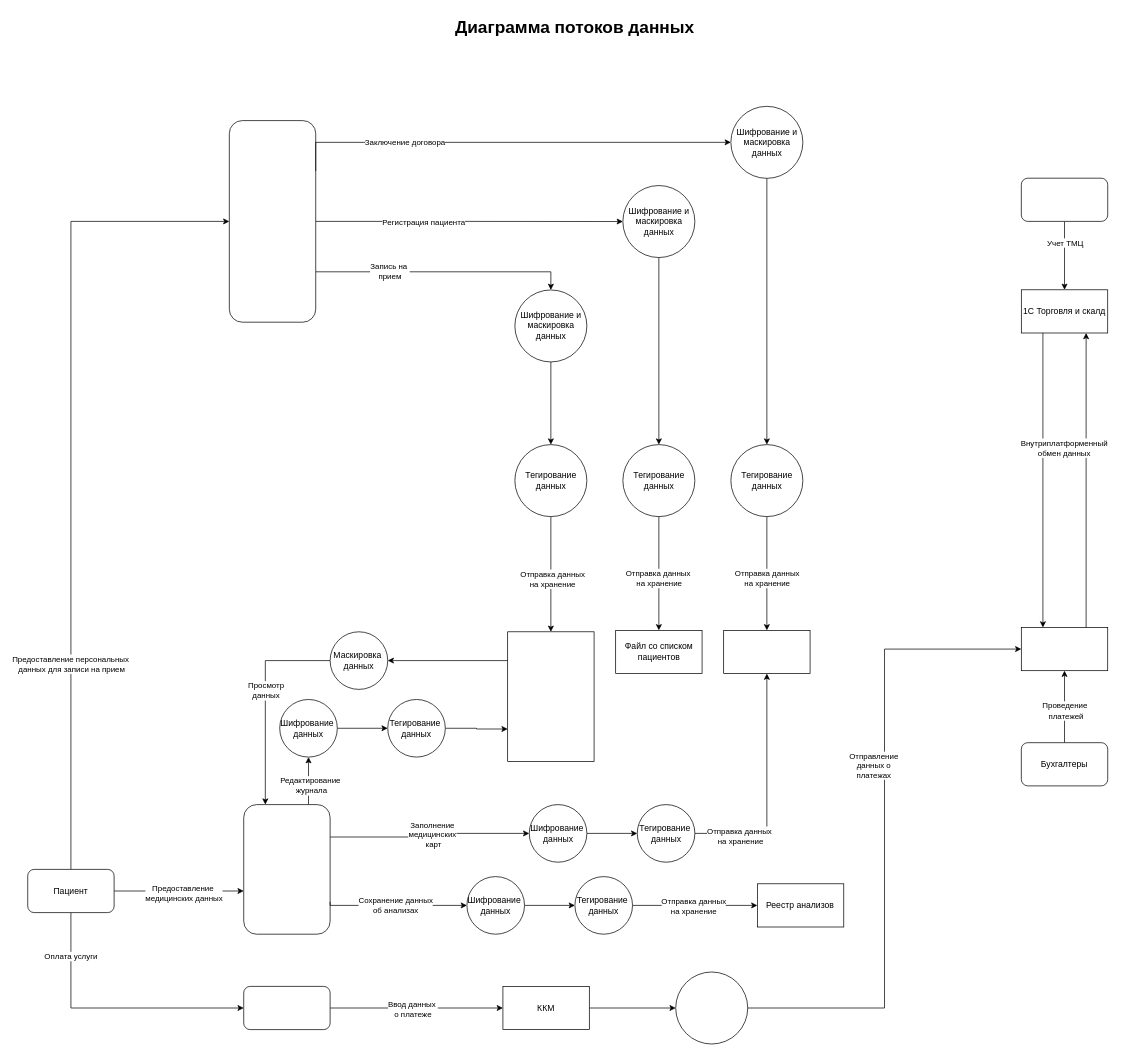
The diagram is 1122 pixels wide and 1056 high, and some of its shapes have lost their labels. Here are the shapes that lost their labels. From the top down, the box of each, then its label:
(1021, 177, 1108, 221): Сотрудник склада
(229, 120, 316, 322): Ресепшн
(723, 630, 810, 674): Файлы пациентов
(1021, 627, 1108, 671): 1С Бухгалтерия предприятия
(507, 631, 594, 761): Журнал записей
(243, 804, 330, 934): Медицинский специалист
(243, 986, 330, 1030): Кассиры
(675, 971, 748, 1044): Обфускация и токенизация данных
